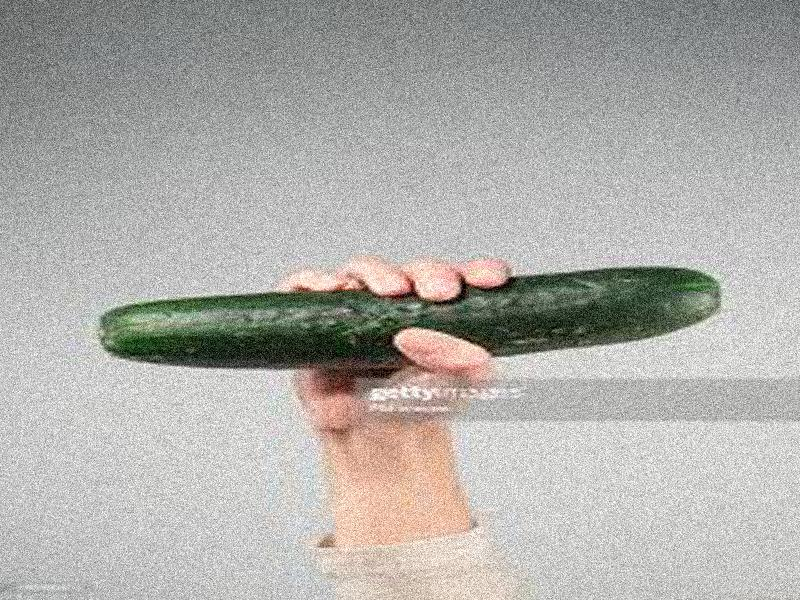Cucumber: (109, 266, 720, 368)
